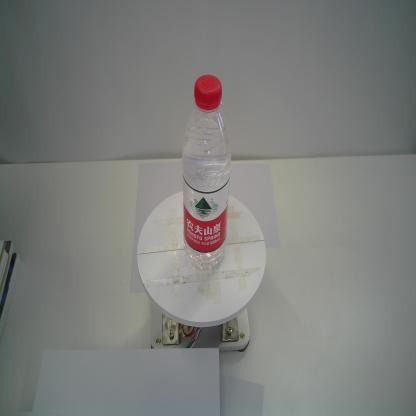Drink: (180, 75, 232, 270)
